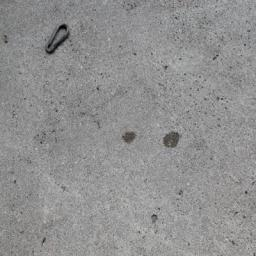FOD: (42, 21, 74, 56)
